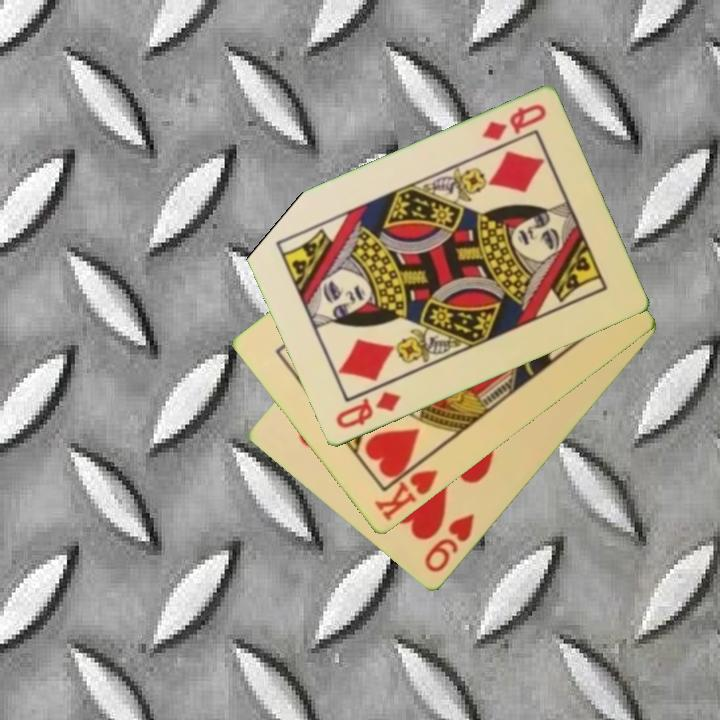9h: (420, 510, 478, 577)
Kh: (370, 452, 441, 525)
Qd: (332, 388, 404, 433), (478, 100, 549, 144)
